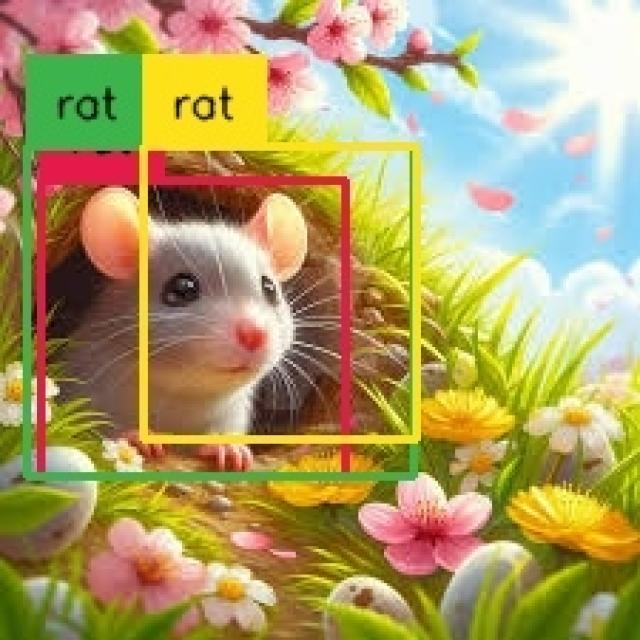rat: (28, 145, 416, 475), (43, 180, 344, 477), (144, 146, 416, 440)
